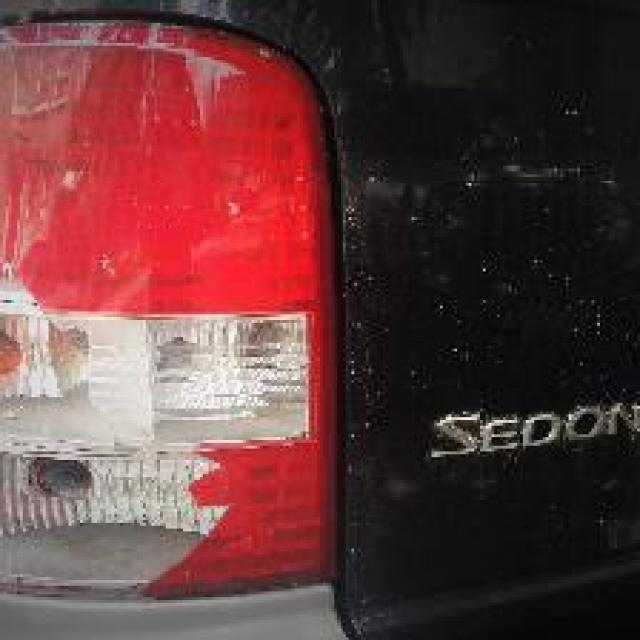damaged: (0, 262, 317, 608)
